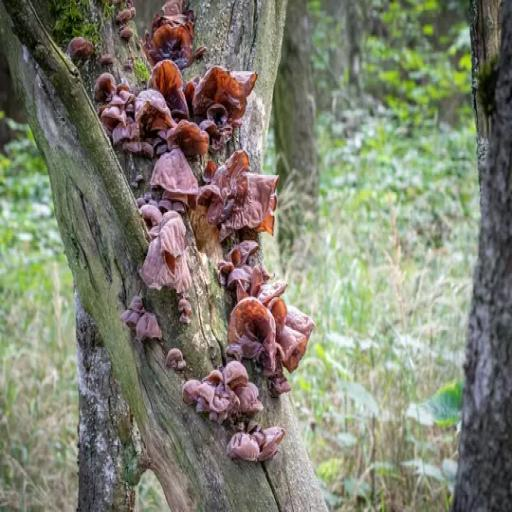Wood Ear Mushroom: (95, 53, 259, 157), (216, 236, 316, 391), (194, 152, 283, 241), (141, 209, 198, 318), (128, 147, 200, 230), (184, 361, 261, 427), (218, 423, 284, 469), (139, 22, 198, 71), (117, 294, 162, 350), (175, 290, 204, 327), (69, 37, 96, 60), (163, 349, 183, 371)
